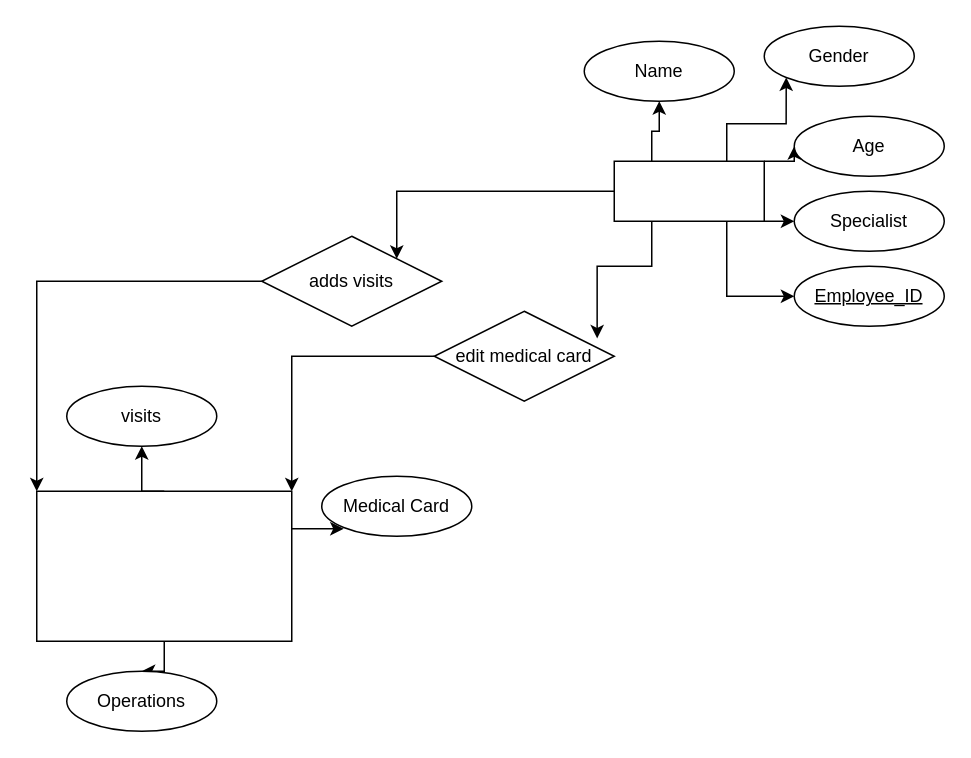
This 971x758 diagram has some shape labels left out. The shapes that lost their labels are listed below. From the top down, each one's box as (x1, y1, x2, y2) in pixels, then its label:
(613, 160, 764, 221): Dcotor
(35, 490, 292, 641): System
